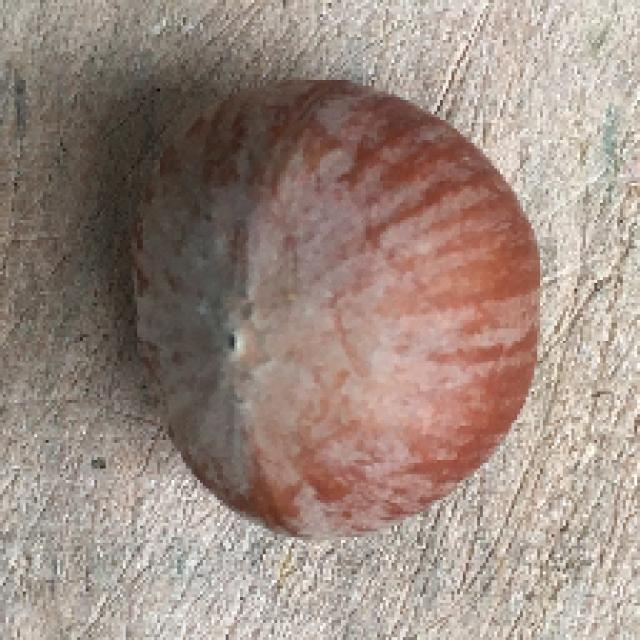qualityHazelnut: (134, 78, 540, 541)
